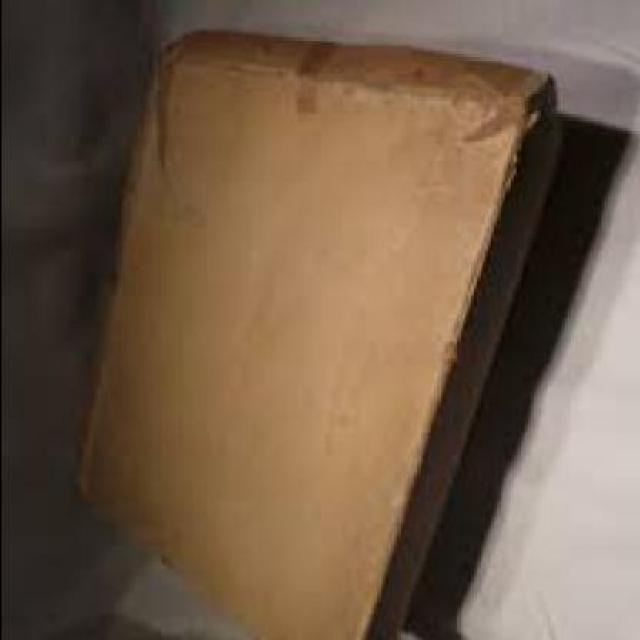CARDBOARD: (68, 28, 554, 638)
